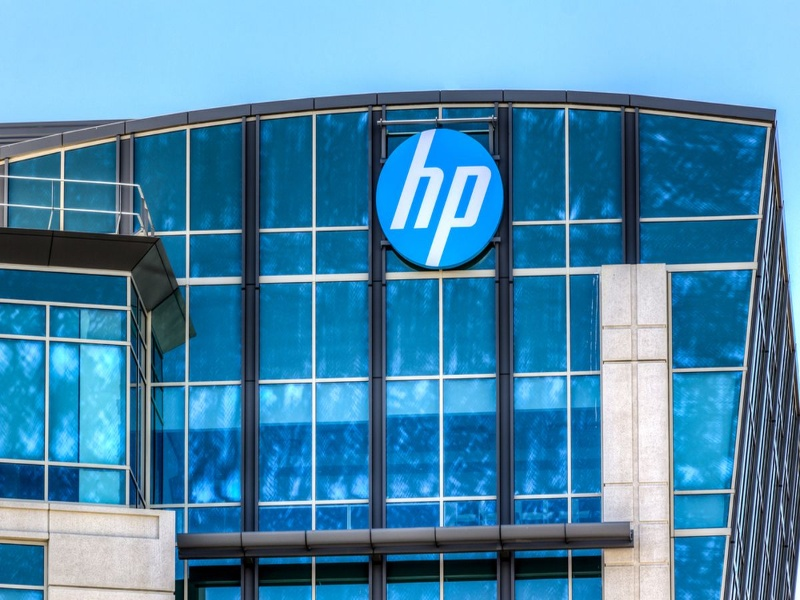hp: (394, 132, 490, 269)
